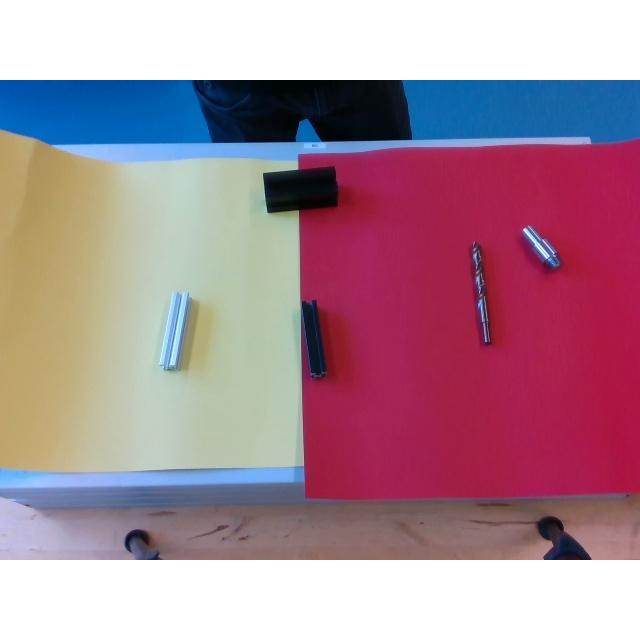Axis2: (522, 226, 562, 270)
Drill: (470, 241, 490, 343)
F20_20_B: (302, 304, 326, 376)
F20_20_G: (160, 290, 188, 368)
S40_40_B: (262, 166, 338, 210)
